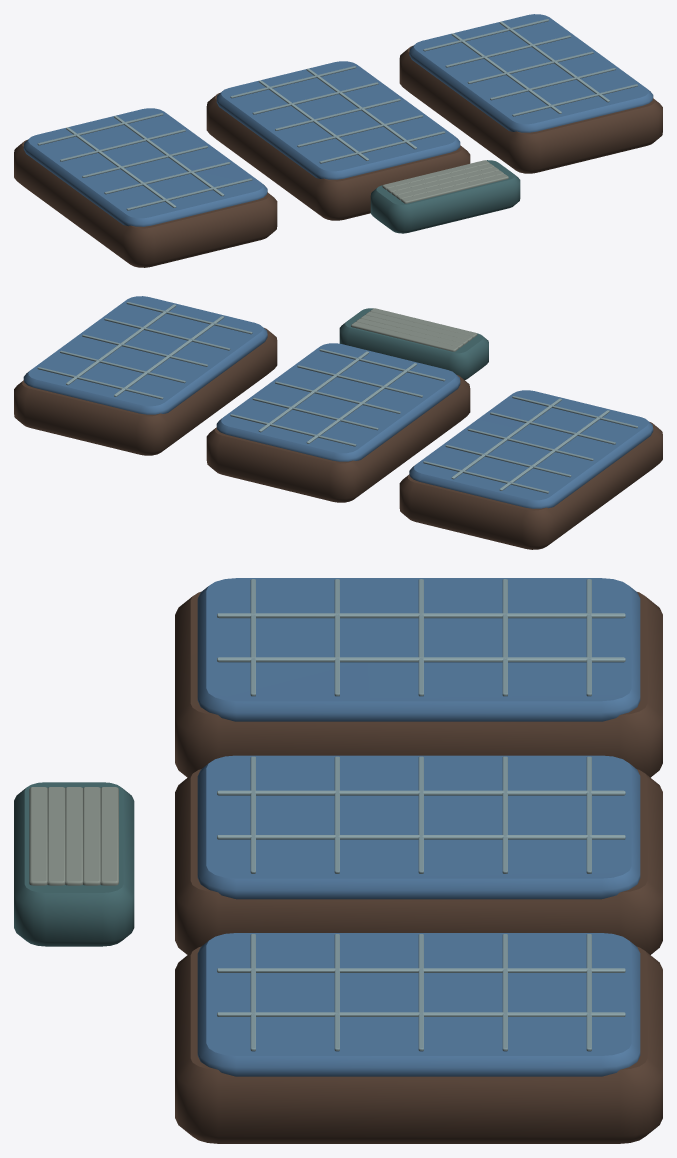
Rendered from valley_restaurant_3.glb.
The picture shows the model from 3 angles, top to bottom: view 1: azimuth 30°, elevation 25°; view 2: azimuth 150°, elevation 25°; view 3: azimuth 270°, elevation 25°; orthographic projection. The views are drawn at different scales.
Parts seen in each view (by area): view 1: Restaurant3; view 2: Restaurant3; view 3: Restaurant3.
Boxes of the visible parts, <box> form: Restaurant3: <box>14,14,662,267</box>; Restaurant3: <box>14,296,662,549</box>; Restaurant3: <box>14,578,662,1143</box>.
Size of the model in its own units: 5.15 by 0.436 by 2.86.
